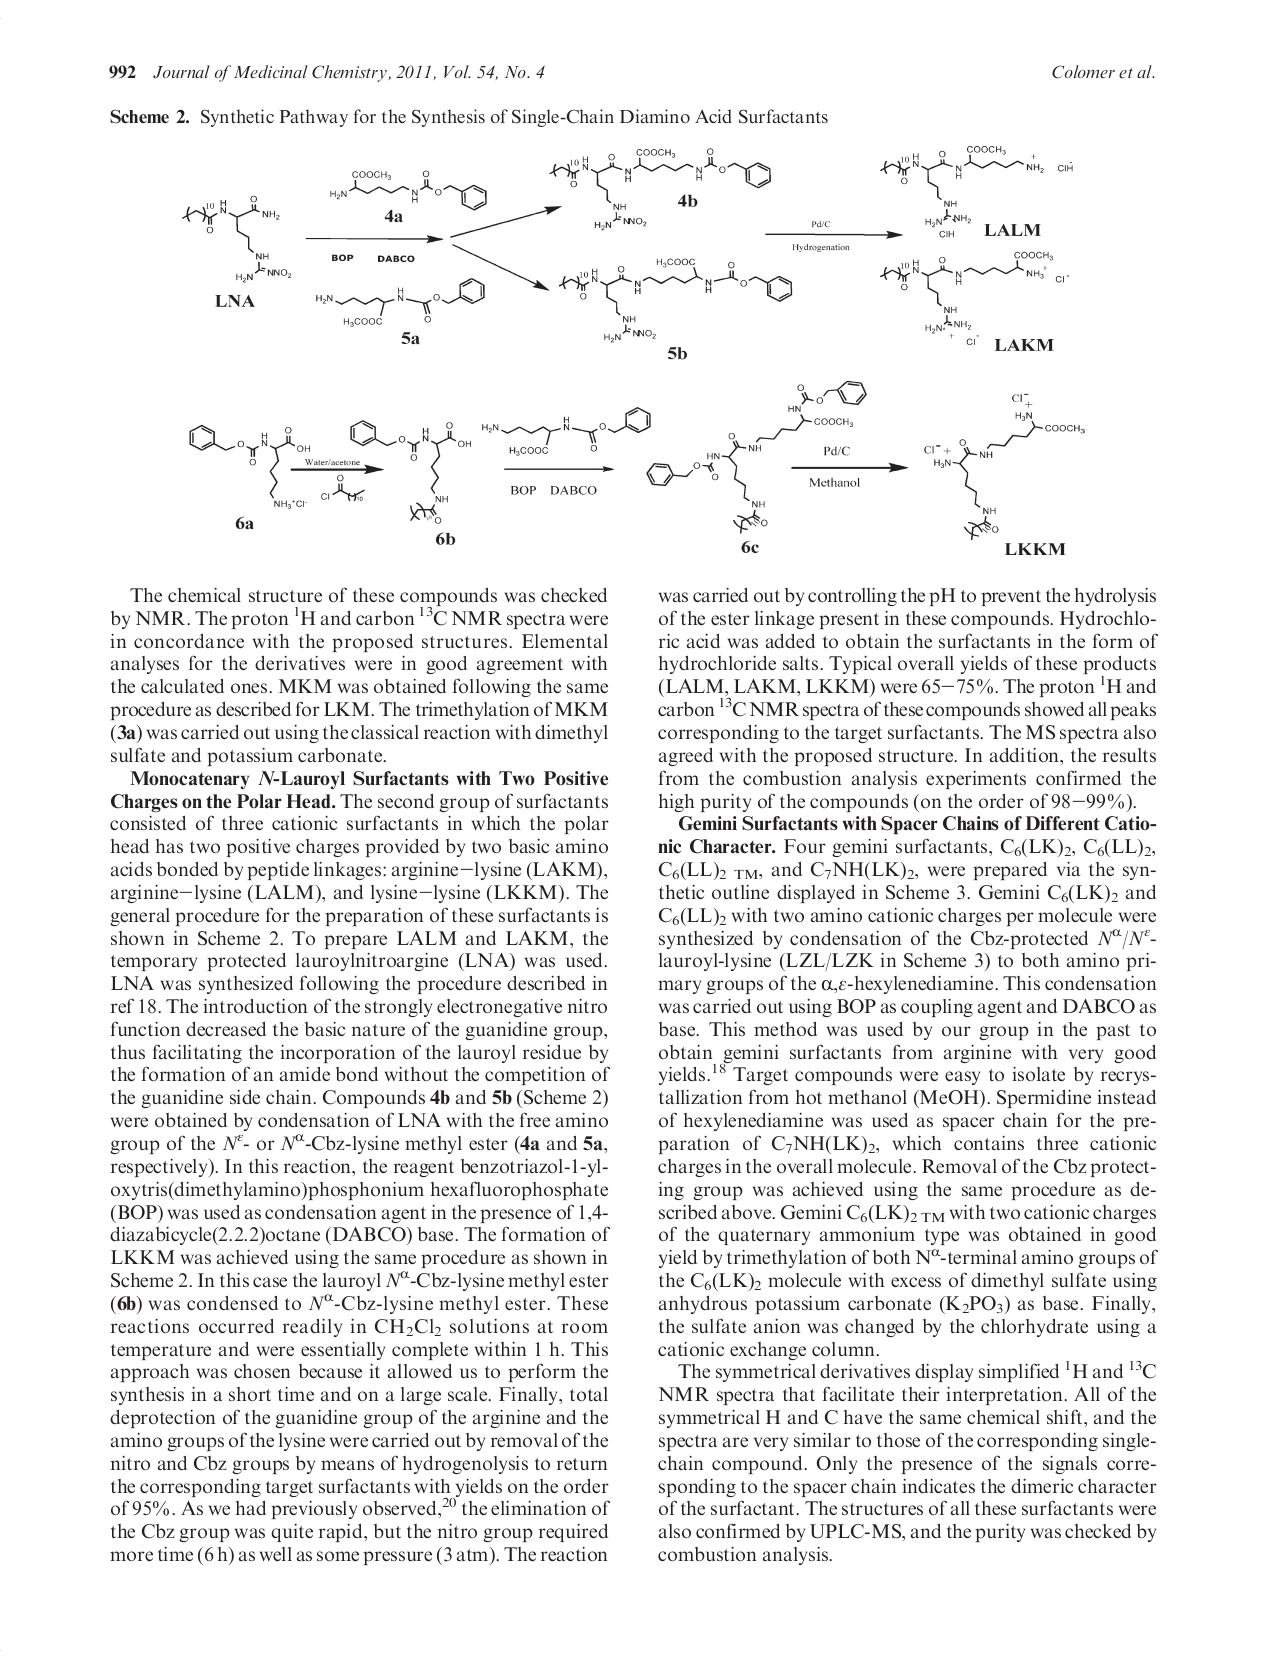exist_molecular: (645, 378, 867, 536), (922, 390, 1086, 543), (555, 251, 797, 344), (547, 145, 774, 233), (875, 247, 1071, 347), (876, 142, 1047, 227), (347, 414, 473, 527), (185, 422, 313, 511), (180, 192, 297, 287), (313, 275, 489, 328), (477, 406, 654, 457), (327, 166, 489, 213), (319, 473, 366, 501)
